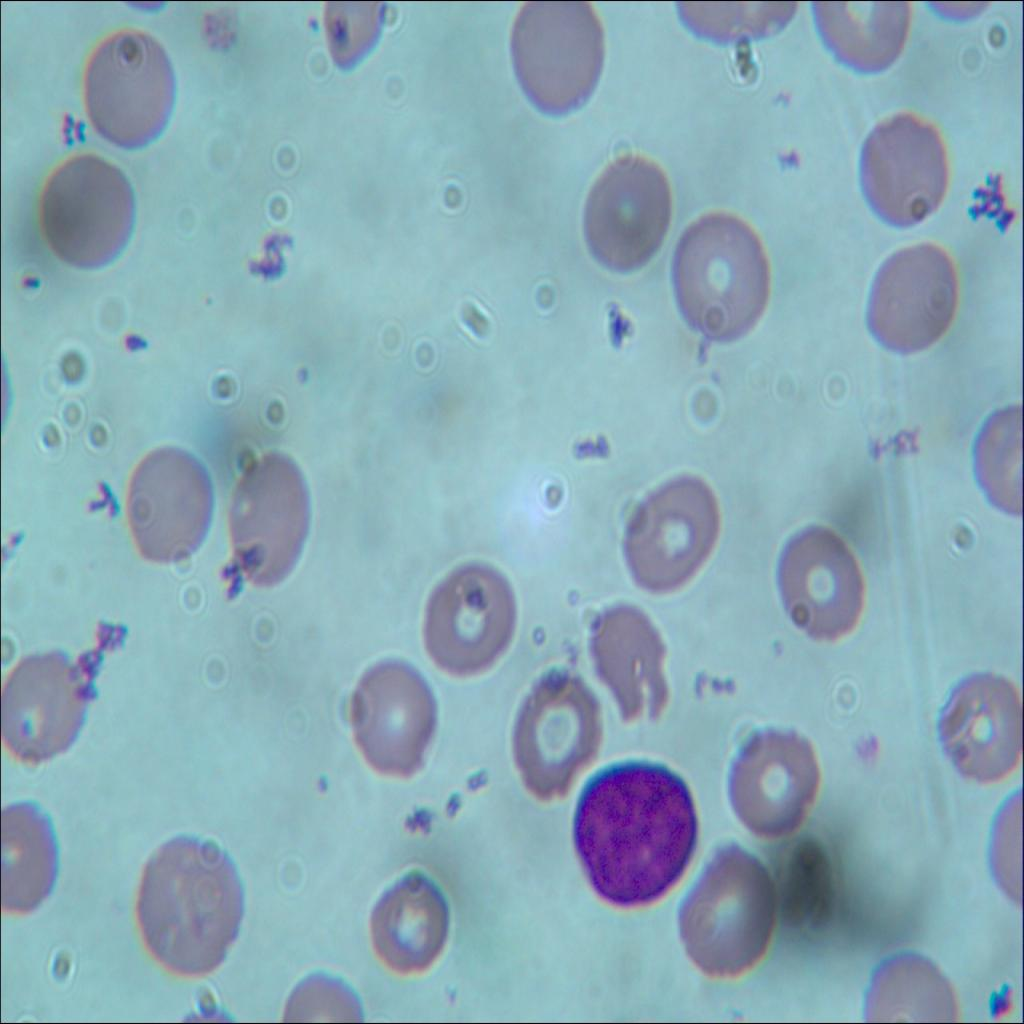Eritrosit: (130, 831, 248, 972), (662, 210, 776, 348), (504, 655, 602, 807), (578, 588, 679, 730), (338, 652, 446, 784), (498, 0, 612, 125), (768, 517, 869, 654), (678, 844, 776, 984), (28, 158, 146, 272), (618, 477, 730, 597), (75, 29, 186, 150), (726, 714, 826, 847), (122, 435, 218, 572), (422, 559, 518, 692), (578, 148, 678, 275), (864, 245, 966, 365), (854, 108, 954, 227), (228, 452, 313, 589), (0, 645, 89, 767), (931, 669, 1023, 784), (366, 868, 456, 984), (806, 0, 916, 77), (0, 805, 62, 925)
Limfoblast: (572, 760, 702, 918)
Platelet: (304, 759, 341, 802), (856, 725, 882, 778), (294, 11, 322, 38)
